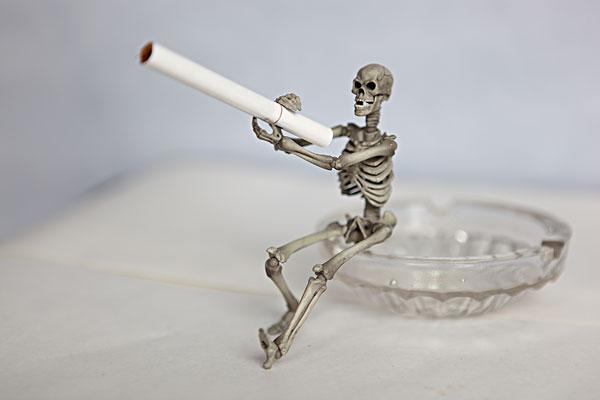smoke: (136, 38, 336, 150)
